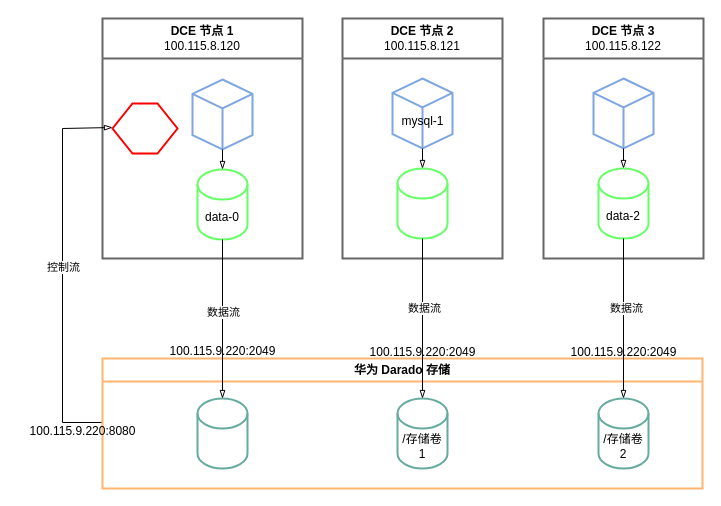
The diagram is 721 pixels wide and 506 high, and some of its shapes have lost their labels. The shapes that lost their labels are listed below. From the top down, each one's centre as x and y in pixels, then its label:
At point (144, 128): "CSI 控制器".
At point (222, 114): "mysql-0".
At point (623, 113): "mysql-2".
At point (422, 203): "data-1".
At point (222, 433): "/存储卷 0".
